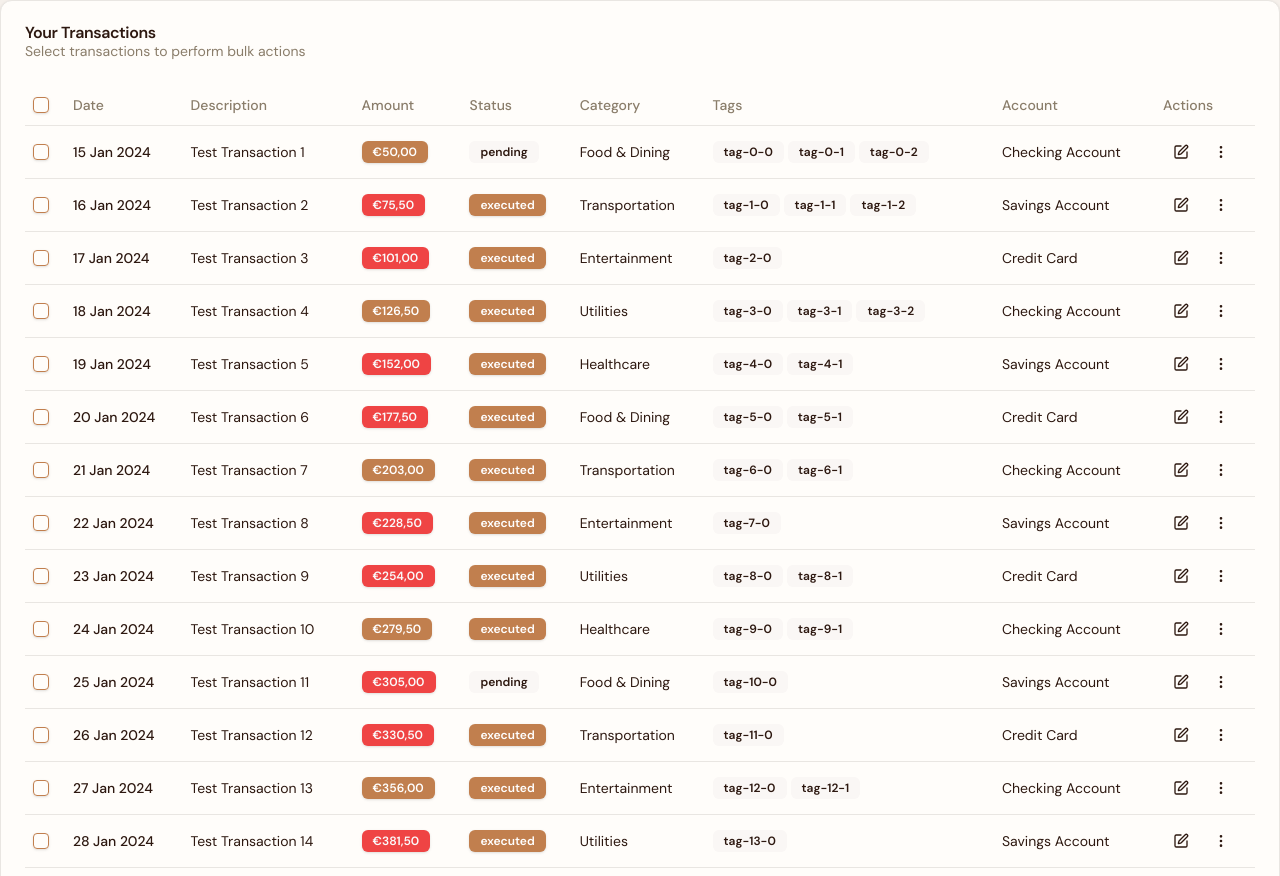
it: TransactionList › Selection Functionality › should select all transactions when select all is clicked
Step 1. Click the checkbox named "Select all transactions" → (41, 105), box [33,97,49,113]
(page scrolled)
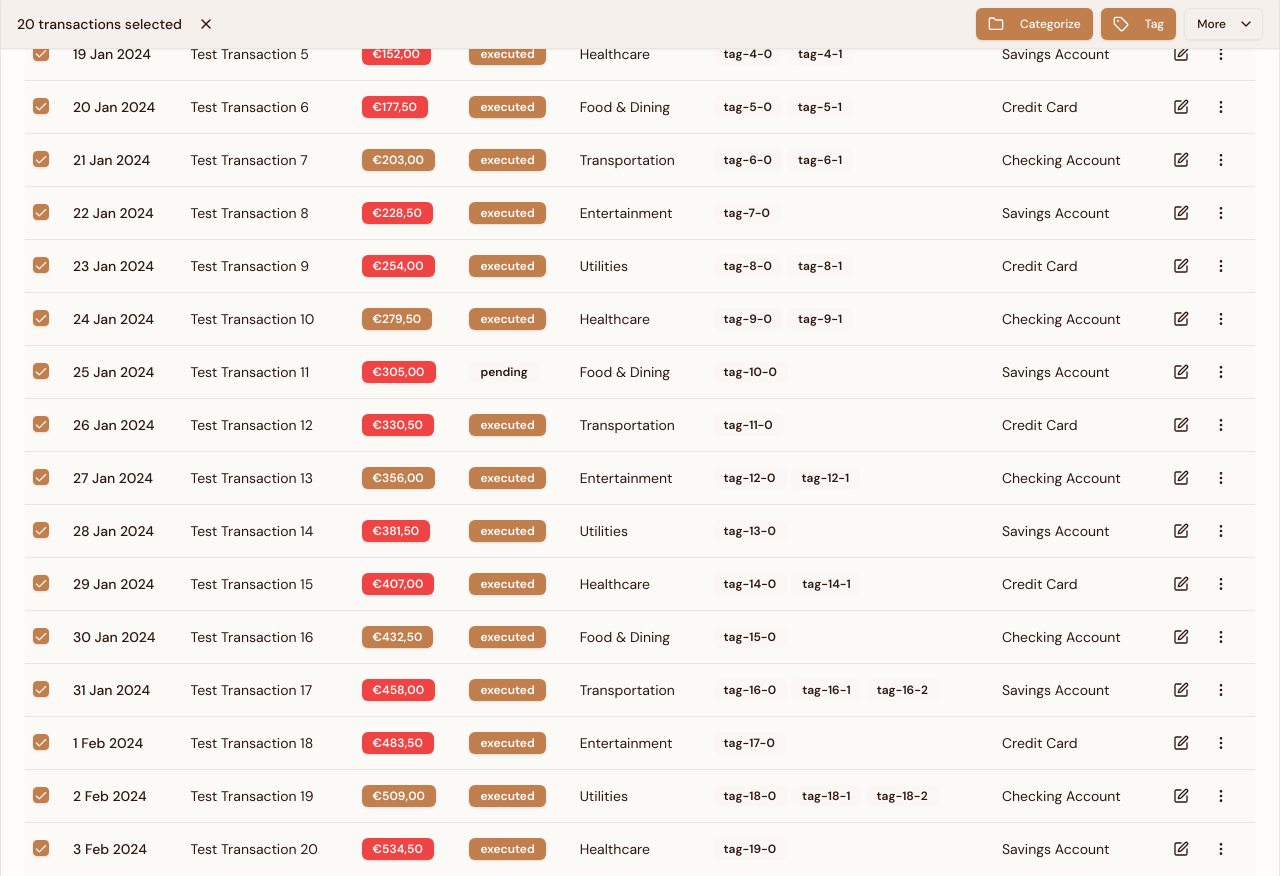
Check: the checkbox named "Select transaction 5" is checked, box [33,44,49,60]
Check: the checkbox named "Select transaction 6" is checked, box [33,98,49,114]
Check: the checkbox named "Select transaction 7" is checked, box [33,150,49,166]
